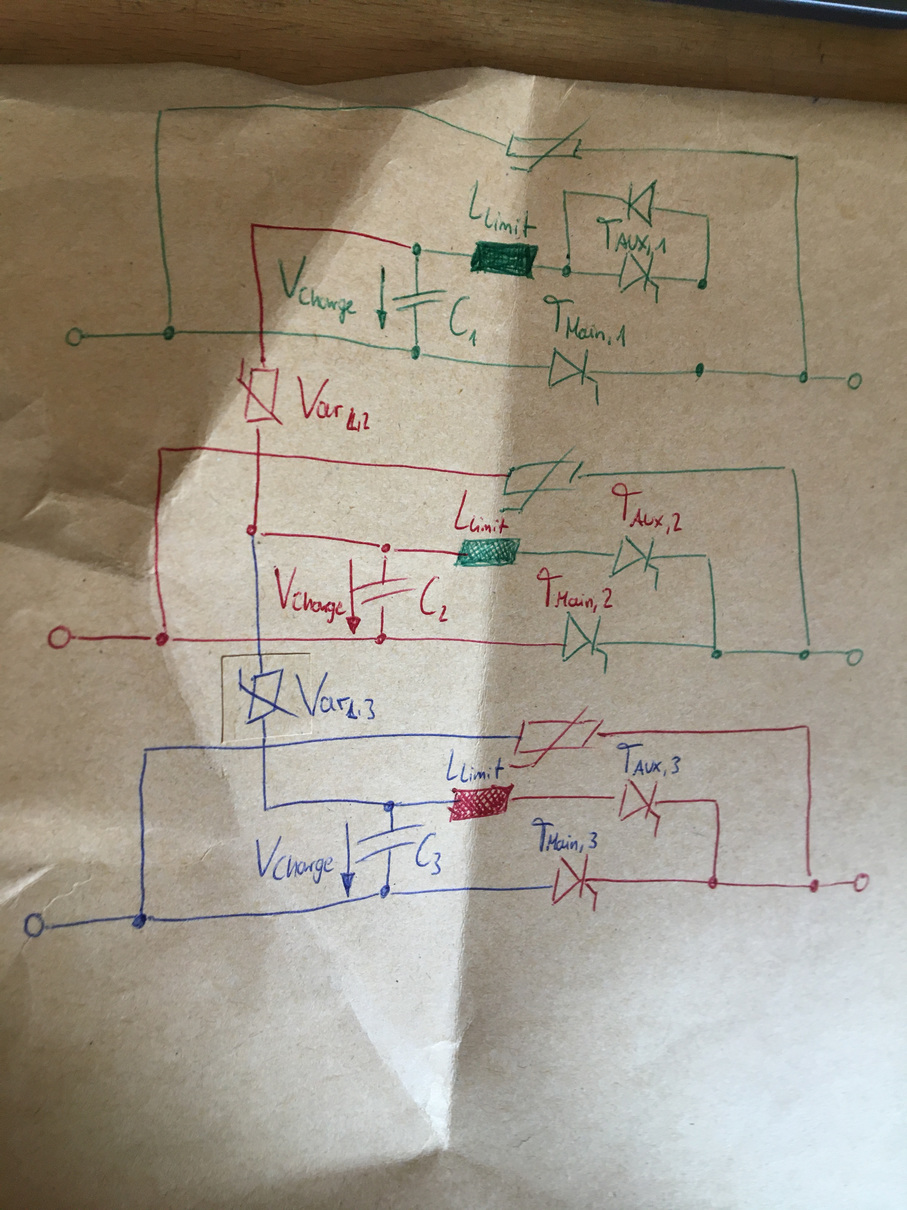capacitor.unpolarized: (354, 822, 421, 864), (354, 576, 417, 609), (392, 287, 447, 313)
crossover: (252, 447, 268, 462), (253, 634, 267, 646), (256, 326, 268, 337), (259, 741, 270, 752)
diode: (625, 177, 659, 229)
inductor: (468, 239, 540, 283), (445, 782, 517, 823), (452, 536, 523, 570)
junction: (147, 625, 177, 649), (245, 521, 268, 543), (377, 539, 398, 562), (130, 911, 154, 930), (804, 873, 824, 895), (707, 642, 727, 662), (795, 642, 816, 661), (160, 320, 178, 342), (408, 240, 427, 259), (408, 342, 425, 362), (153, 102, 172, 119), (376, 882, 393, 901), (382, 799, 401, 814), (694, 275, 711, 291), (796, 368, 812, 385), (559, 262, 574, 280), (705, 873, 720, 891), (373, 631, 388, 647), (709, 795, 725, 809), (780, 463, 798, 475), (701, 550, 716, 564), (700, 209, 714, 223), (140, 744, 153, 757), (559, 185, 571, 199), (789, 152, 804, 163), (155, 443, 167, 456), (260, 803, 272, 816), (802, 721, 814, 734), (247, 220, 260, 231)
terminal: (20, 910, 54, 941), (45, 622, 80, 652), (62, 324, 87, 349), (850, 870, 872, 896), (842, 645, 866, 668), (841, 370, 864, 392)
text: (274, 253, 360, 327), (540, 291, 631, 350), (294, 373, 373, 434), (272, 563, 348, 625), (466, 178, 539, 239), (294, 670, 378, 723), (253, 833, 337, 885), (608, 481, 685, 535), (534, 565, 614, 613), (594, 215, 669, 258), (529, 815, 601, 854), (452, 488, 510, 535), (614, 741, 683, 778), (445, 746, 506, 784), (447, 293, 482, 350), (418, 574, 451, 623), (414, 830, 446, 878)
thyristor: (550, 854, 600, 906), (561, 611, 609, 663), (612, 778, 663, 823), (547, 348, 601, 390), (609, 536, 661, 579), (616, 252, 660, 295)
varistor: (508, 704, 604, 769), (499, 447, 587, 514), (504, 117, 590, 174), (234, 357, 286, 432), (237, 664, 299, 726)
